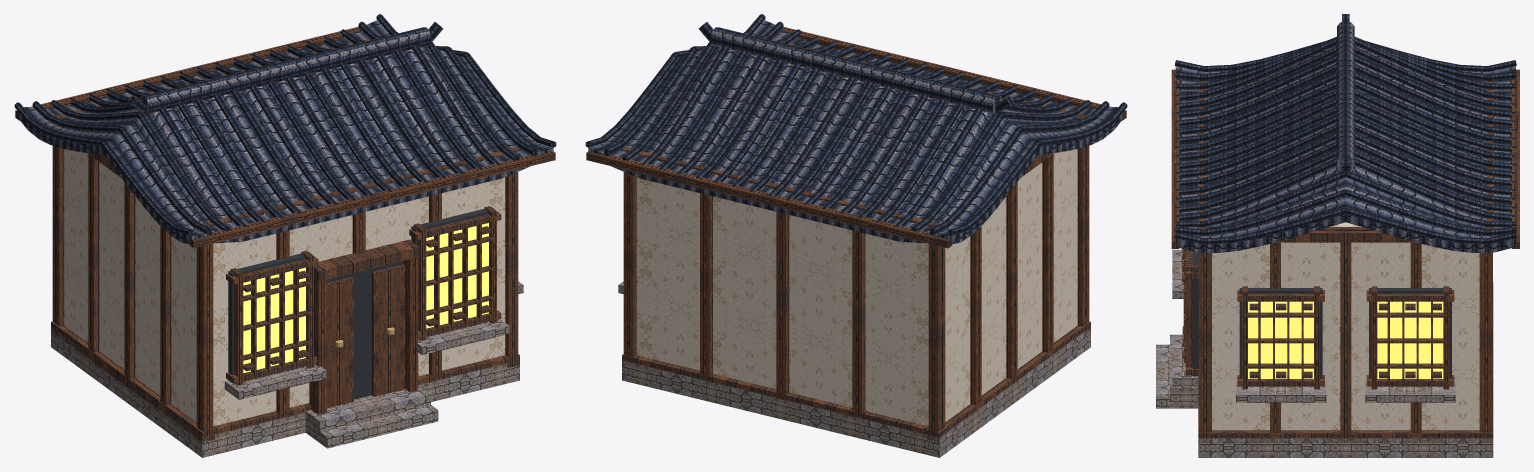
Rendered from house.glb.
3 views of the same model, side by side, from view 1: azimuth 30°, elevation 25°; view 2: azimuth 150°, elevation 25°; view 3: azimuth 270°, elevation 25° (orthographic). The views are drawn at different scales.
Parts seen in each view (by area): view 1: house_canal_roof, house_canal_wood, house_canal_plaster, house_canal_stone, house_canal_paper, house_canal_dark; view 2: house_canal_roof, house_canal_plaster, house_canal_wood, house_canal_stone; view 3: house_canal_roof, house_canal_wood, house_canal_plaster, house_canal_stone, house_canal_paper, house_canal_dark.
Part boxes in pixels (bbox=[...]): house_canal_roof: bbox=[14, 14, 556, 244]; house_canal_wood: bbox=[15, 26, 555, 442]; house_canal_plaster: bbox=[64, 149, 505, 426]; house_canal_stone: bbox=[51, 281, 523, 457]; house_canal_paper: bbox=[243, 223, 488, 373]; house_canal_dark: bbox=[228, 207, 495, 399]; house_canal_roof: bbox=[585, 14, 1127, 244]; house_canal_plaster: bbox=[636, 149, 1077, 426]; house_canal_wood: bbox=[586, 26, 1126, 441]; house_canal_stone: bbox=[618, 281, 1090, 457]; house_canal_roof: bbox=[1175, 14, 1516, 252]; house_canal_wood: bbox=[1171, 69, 1519, 442]; house_canal_plaster: bbox=[1212, 222, 1479, 430]; house_canal_stone: bbox=[1156, 249, 1493, 457]; house_canal_paper: bbox=[1248, 301, 1443, 378]; house_canal_dark: bbox=[1192, 251, 1451, 378].
Size of the model in its own units: 5.29 by 4.19 by 4.66.
7 materials, 4 textured.
